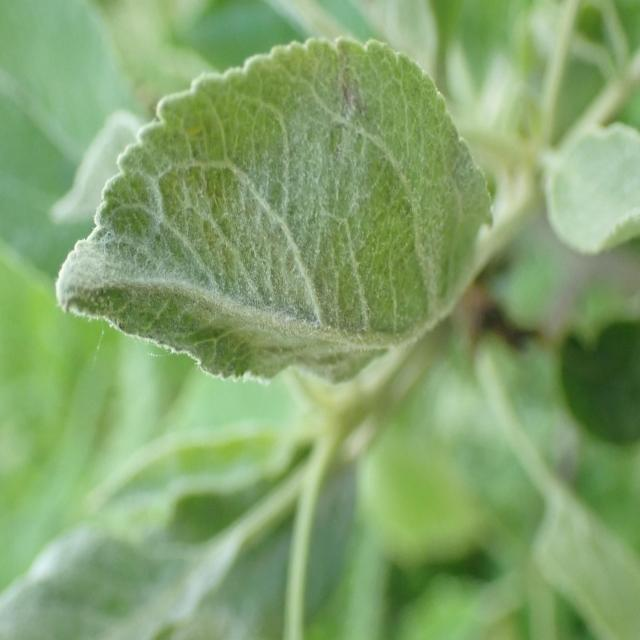Powdery_mildew: (57, 4, 494, 430)
